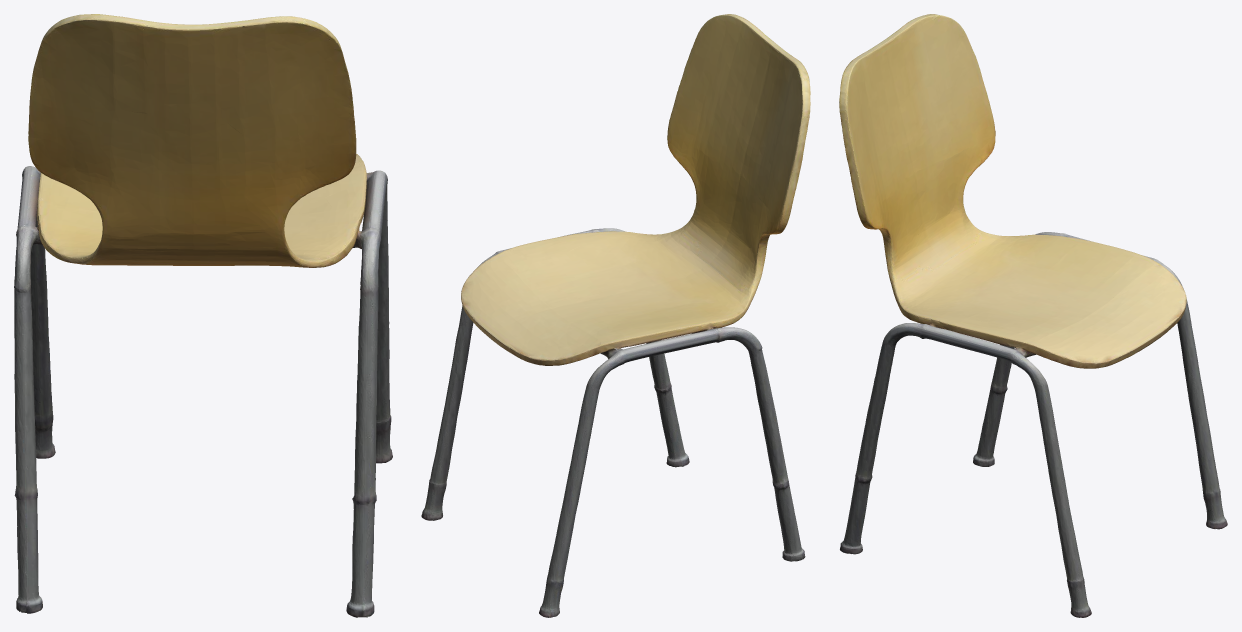
File: light-colored_wooden_chair_against_back_wall_(center)_000.glb
3 views of the same model, side by side, from view 1: azimuth 30°, elevation 25°; view 2: azimuth 150°, elevation 25°; view 3: azimuth 270°, elevation 25° (orthographic). The views are drawn at different scales.
Visible parts, largest first — view 1: phase2_final_light-colored_wooden_chair_against_back_wall_(c; view 2: phase2_final_light-colored_wooden_chair_against_back_wall_(c; view 3: phase2_final_light-colored_wooden_chair_against_back_wall_(c.
Boxes of the visible parts, x1,y1,x2,y2 form: phase2_final_light-colored_wooden_chair_against_back_wall_(c: (14, 14, 392, 617); phase2_final_light-colored_wooden_chair_against_back_wall_(c: (421, 14, 810, 617); phase2_final_light-colored_wooden_chair_against_back_wall_(c: (839, 14, 1227, 617).
Size of the model in its own units: 0.3532 by 0.4723 by 0.3619.
1 material, 1 textured.
